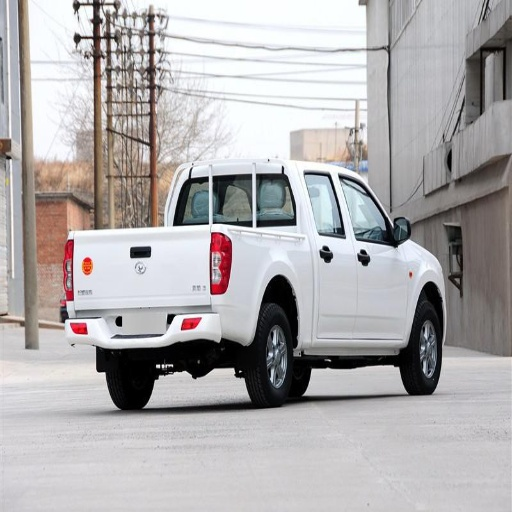back_bumper: (74, 311, 213, 347)
back_right_door: (301, 169, 357, 337)
trunk: (77, 228, 309, 346)
